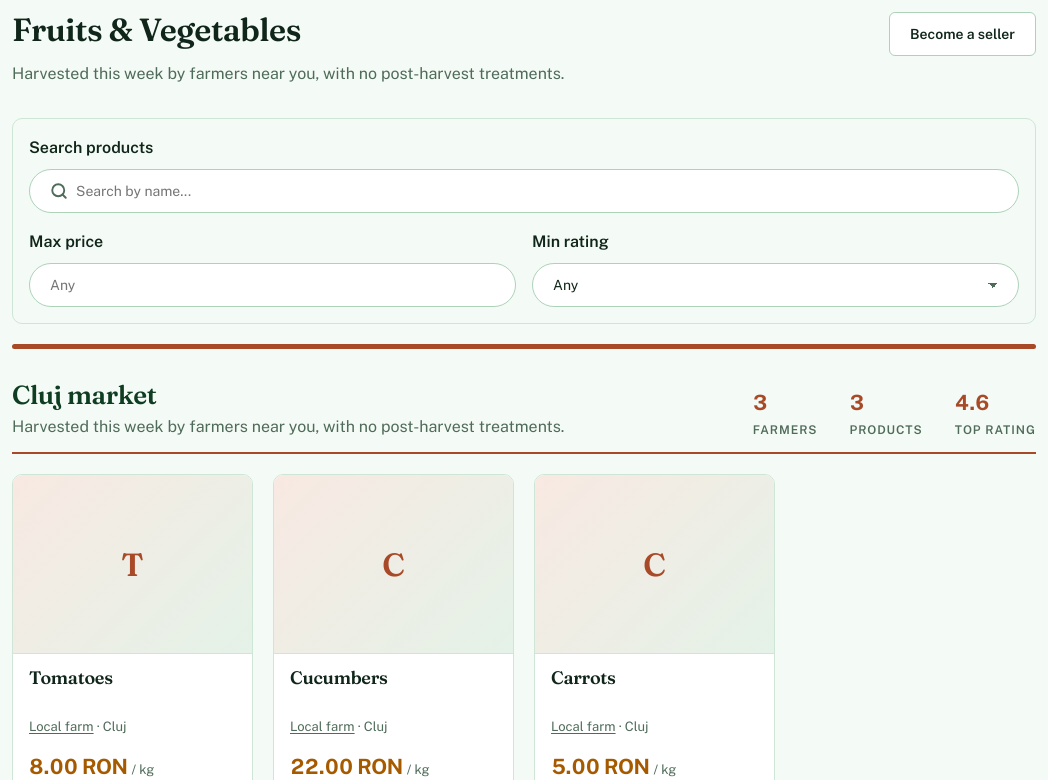
Test: MarketsPage filters › narrows by name
Expected: the heading "Tomatoes" is shown, [29,666,113,689]
Type "carr" into the field labelled "Search products".
click(537, 191); type("carr")  # box [76,170,998,212]
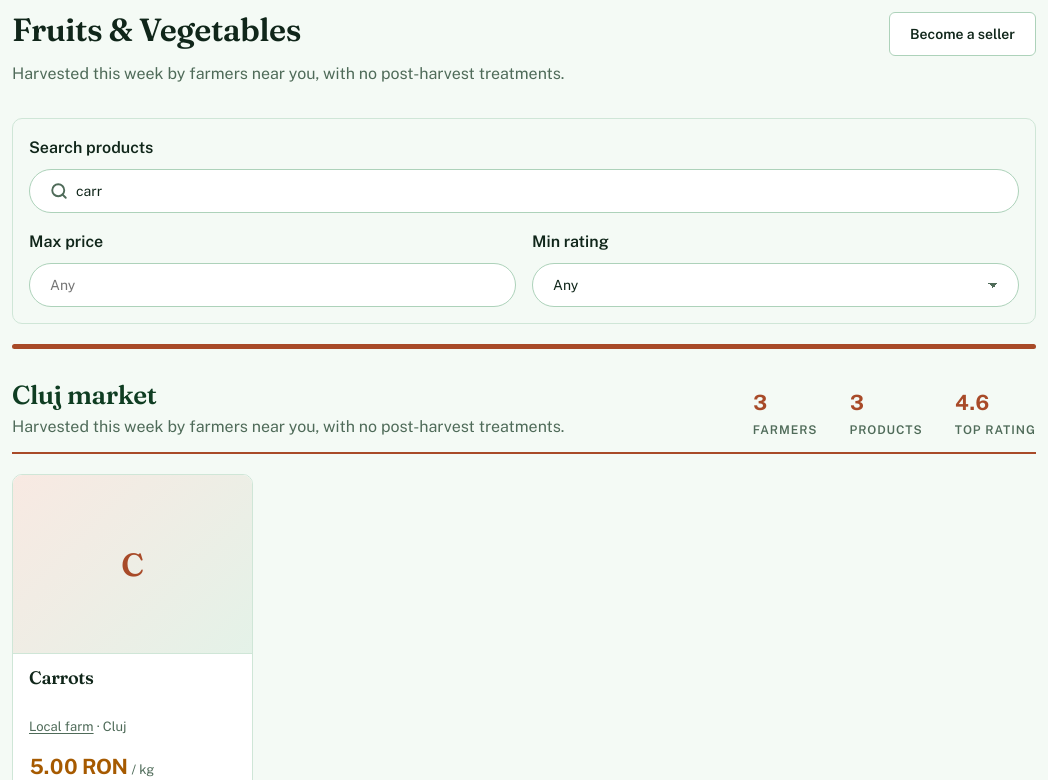
Expected: the heading "Carrots" is shown, [29,666,94,689]
Expected: the heading "Tomatoes" is gone
